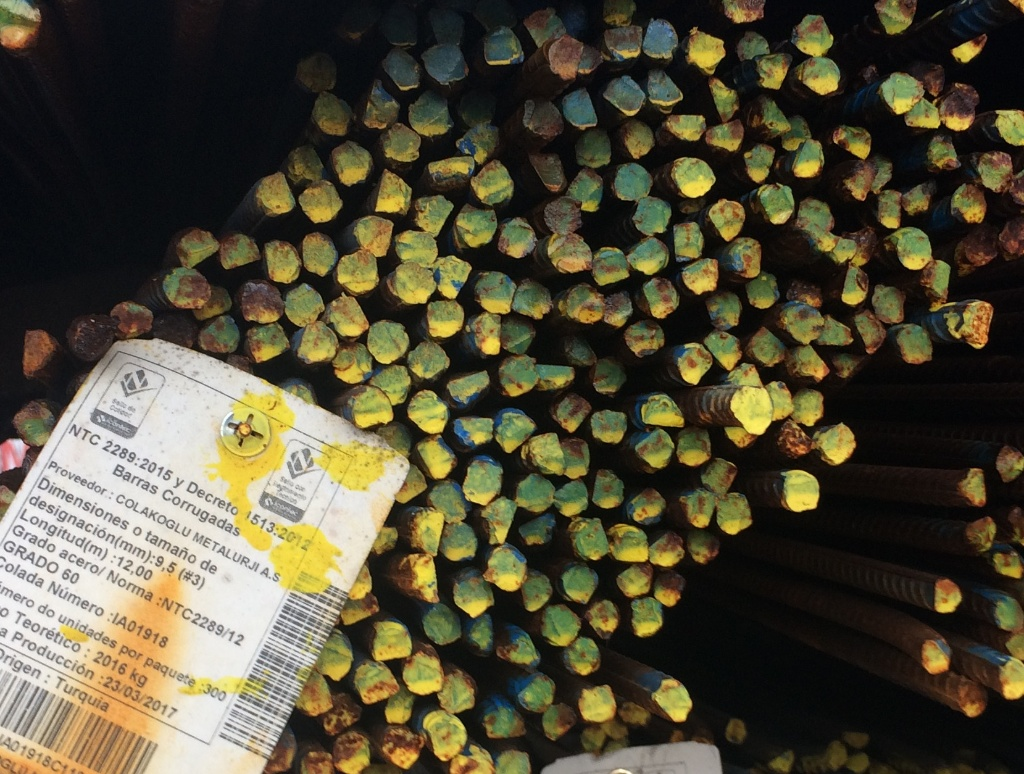dipstick: (518, 98, 565, 143), (358, 77, 399, 128), (296, 180, 343, 224), (799, 193, 834, 252), (160, 267, 210, 307), (425, 45, 470, 89), (240, 278, 284, 323), (330, 140, 372, 187), (731, 384, 771, 433), (67, 316, 112, 359), (312, 90, 352, 138), (481, 26, 523, 71), (423, 711, 465, 756), (256, 172, 297, 218), (639, 390, 686, 430), (295, 322, 338, 365), (380, 51, 425, 92), (381, 721, 422, 766), (471, 160, 511, 206), (546, 232, 592, 272), (242, 324, 290, 362), (328, 293, 368, 338), (791, 14, 837, 53), (413, 92, 452, 138), (455, 201, 494, 247), (868, 2, 916, 39), (13, 399, 52, 444), (780, 469, 819, 514), (950, 180, 988, 226), (749, 326, 786, 373), (445, 372, 492, 409), (18, 330, 52, 381), (463, 455, 499, 503), (519, 4, 562, 44), (199, 314, 239, 357), (350, 386, 393, 426), (560, 283, 604, 322), (671, 158, 717, 195), (337, 252, 378, 293), (686, 30, 725, 73), (421, 603, 460, 646), (601, 25, 645, 63), (759, 181, 797, 225), (264, 240, 301, 285), (782, 303, 827, 340), (455, 572, 492, 617), (604, 77, 646, 116), (395, 228, 439, 265), (608, 164, 653, 200), (706, 327, 742, 372), (574, 516, 610, 561), (628, 236, 668, 276), (393, 263, 433, 303), (513, 472, 553, 512), (383, 122, 422, 163), (414, 193, 453, 234), (407, 392, 446, 433), (367, 322, 409, 360), (488, 547, 525, 590), (332, 731, 369, 774), (477, 272, 513, 316), (408, 550, 439, 601), (655, 677, 690, 722), (294, 51, 334, 90), (155, 308, 195, 347), (571, 128, 611, 167), (494, 218, 534, 257), (497, 355, 536, 395), (428, 481, 467, 521), (373, 622, 413, 661), (800, 56, 838, 97), (371, 365, 412, 403), (893, 228, 930, 270), (302, 231, 336, 276), (409, 340, 448, 379), (885, 70, 923, 110), (644, 68, 682, 108), (424, 156, 473, 187), (976, 152, 1013, 193), (532, 435, 569, 476), (218, 231, 260, 267), (543, 36, 578, 79), (428, 295, 463, 338), (514, 278, 549, 321), (378, 171, 410, 218), (571, 167, 604, 212), (480, 499, 513, 544), (113, 301, 152, 339), (333, 343, 371, 382), (359, 664, 397, 703), (564, 2, 600, 43), (706, 199, 742, 240), (816, 423, 852, 464), (495, 409, 530, 451), (405, 653, 440, 695), (450, 414, 493, 448), (639, 429, 673, 472), (789, 344, 827, 382), (589, 408, 627, 446), (705, 290, 742, 329), (624, 318, 663, 355), (896, 325, 932, 365), (870, 283, 906, 323), (676, 344, 712, 384), (386, 4, 421, 45), (928, 130, 963, 171), (472, 1, 518, 32), (644, 19, 677, 62), (484, 705, 527, 738), (417, 436, 454, 474), (530, 151, 566, 190), (560, 565, 599, 601), (580, 686, 619, 722), (963, 299, 991, 349), (324, 630, 352, 680), (351, 219, 392, 253), (533, 359, 574, 393), (565, 88, 598, 130), (629, 598, 662, 640), (439, 255, 471, 298), (443, 670, 475, 713), (344, 2, 380, 40), (430, 6, 466, 44), (642, 277, 678, 315), (176, 230, 217, 263), (592, 469, 625, 510), (466, 615, 499, 656), (956, 675, 988, 717), (750, 98, 786, 135), (617, 119, 654, 155), (554, 393, 590, 430), (629, 487, 665, 524), (581, 604, 618, 640), (720, 1, 771, 27), (471, 312, 501, 356), (718, 493, 751, 533), (744, 141, 776, 182), (443, 519, 475, 560), (544, 605, 576, 646), (664, 114, 709, 143), (411, 509, 440, 554), (992, 593, 1023, 635), (377, 421, 413, 457), (286, 285, 323, 320), (755, 55, 792, 90), (545, 198, 582, 233), (648, 532, 683, 569), (613, 524, 648, 561), (684, 257, 718, 295), (590, 356, 624, 394), (765, 380, 795, 423), (500, 632, 539, 665), (992, 109, 1024, 149), (299, 671, 328, 715), (706, 78, 737, 119), (776, 420, 812, 455), (677, 429, 712, 465), (288, 146, 325, 180), (634, 198, 672, 231), (519, 514, 557, 547), (542, 704, 575, 742), (460, 126, 499, 158), (965, 514, 997, 553), (944, 91, 973, 134), (847, 159, 876, 202), (592, 248, 627, 283), (461, 93, 497, 127), (683, 488, 714, 527), (522, 569, 550, 612), (967, 230, 997, 270), (853, 312, 883, 352), (686, 530, 720, 565), (398, 466, 432, 501), (563, 638, 597, 673), (603, 288, 632, 329), (327, 694, 360, 730), (708, 120, 746, 151), (834, 128, 873, 158), (563, 332, 596, 367), (503, 315, 534, 352), (793, 386, 823, 424), (557, 477, 587, 515), (522, 673, 552, 711), (601, 1, 643, 28), (842, 265, 871, 304), (998, 220, 1023, 265), (744, 275, 779, 307), (997, 658, 1023, 701), (795, 140, 824, 178), (673, 223, 702, 261), (613, 564, 651, 593), (342, 597, 377, 628), (204, 285, 234, 321), (997, 442, 1023, 483), (953, 31, 986, 63), (730, 238, 761, 272), (786, 273, 821, 303), (933, 577, 960, 615), (992, 548, 1024, 580), (739, 28, 769, 62), (704, 458, 734, 492), (273, 729, 297, 771), (961, 467, 986, 507), (909, 98, 940, 130), (875, 191, 902, 227), (728, 363, 765, 389), (850, 232, 875, 270), (923, 637, 950, 672), (656, 571, 683, 605), (576, 42, 601, 78), (822, 318, 852, 348), (577, 725, 607, 755), (904, 183, 937, 210), (785, 114, 810, 149), (298, 749, 333, 774), (921, 65, 947, 98), (621, 703, 655, 728), (833, 351, 863, 379), (452, 753, 492, 774), (928, 261, 951, 297), (496, 749, 529, 774), (725, 425, 760, 448), (381, 698, 413, 723), (371, 525, 397, 555), (1005, 504, 1023, 545), (829, 236, 852, 268), (874, 156, 892, 195), (955, 82, 981, 108), (353, 567, 376, 596), (724, 716, 746, 744), (770, 752, 798, 773), (827, 740, 846, 770), (1006, 628, 1023, 657), (844, 730, 871, 748), (606, 719, 627, 740), (850, 751, 871, 770), (806, 756, 828, 772)
